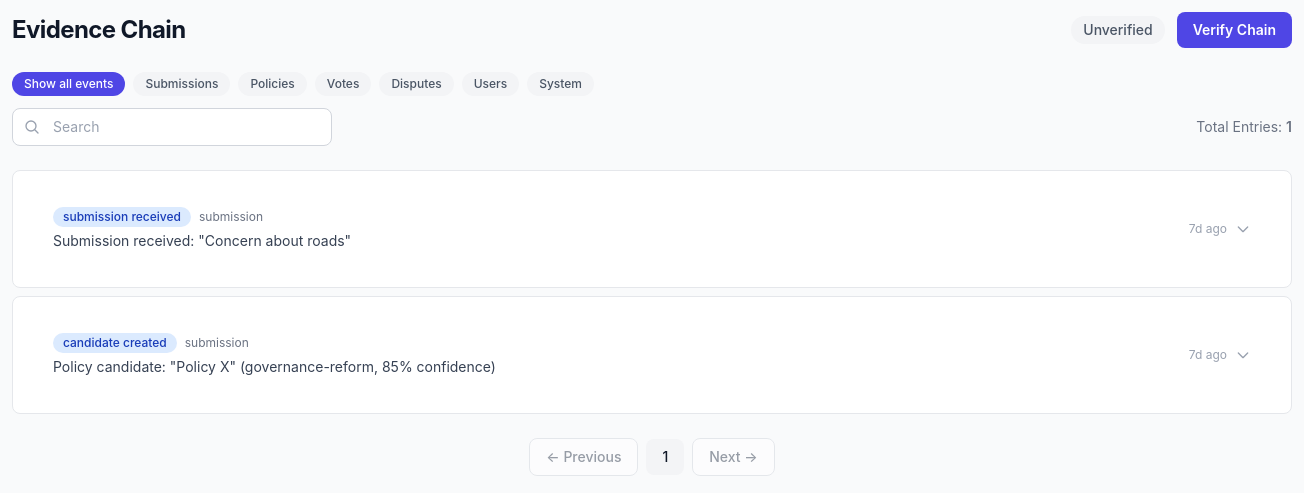
Test: EvidencePage › shows chain valid after verify
The image size is (1304, 493).
Expected: the text "Submission received: \"Concern about roads\"" is shown, [53,232,351,249]
Step 1. Click the button "Verify Chain" → (1234, 30), box [1177,12,1292,48]
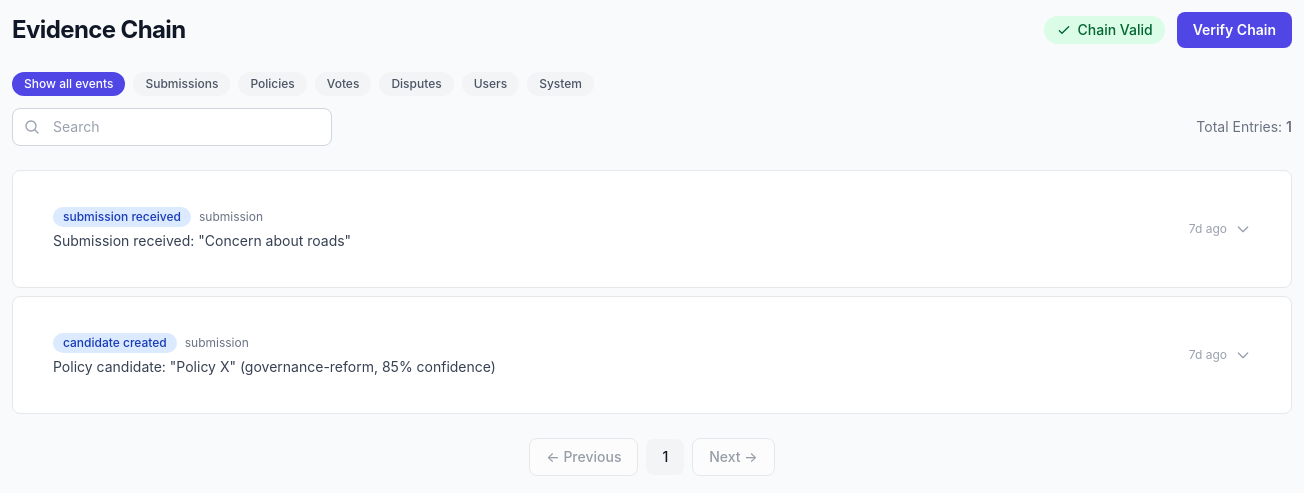
Expected: the text "Chain Valid" is shown, [1044,16,1165,44]
